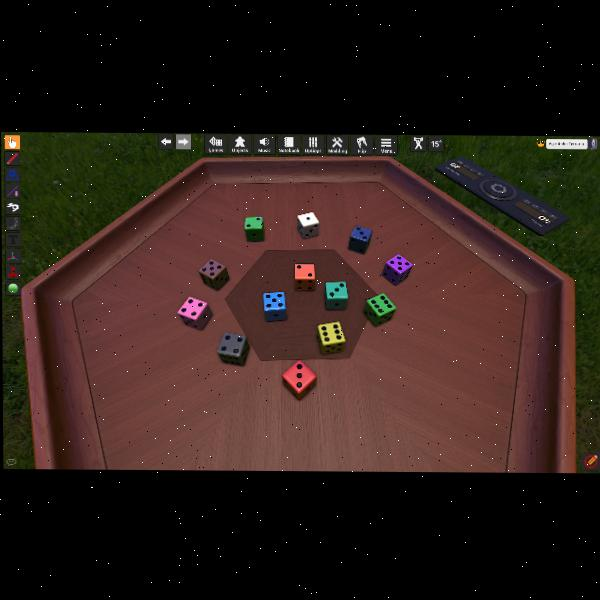d6: (282, 360, 316, 399), (177, 296, 211, 331), (216, 333, 247, 366), (363, 292, 393, 325), (198, 258, 228, 291), (316, 321, 345, 354), (382, 253, 410, 285), (262, 291, 286, 321), (347, 225, 371, 254), (325, 281, 348, 310), (296, 211, 319, 239), (294, 263, 316, 290), (244, 215, 264, 241)
